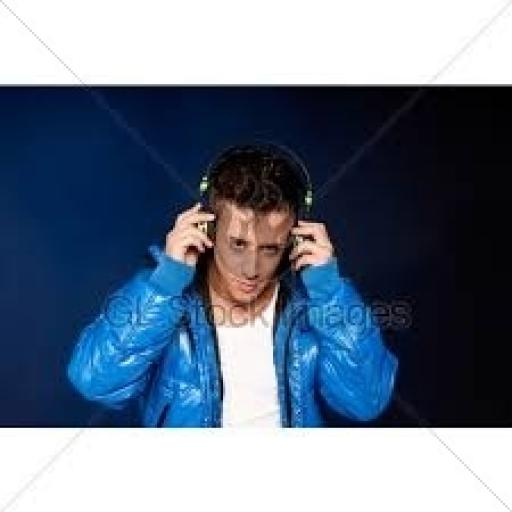listening_to_music: (61, 139, 403, 430)
